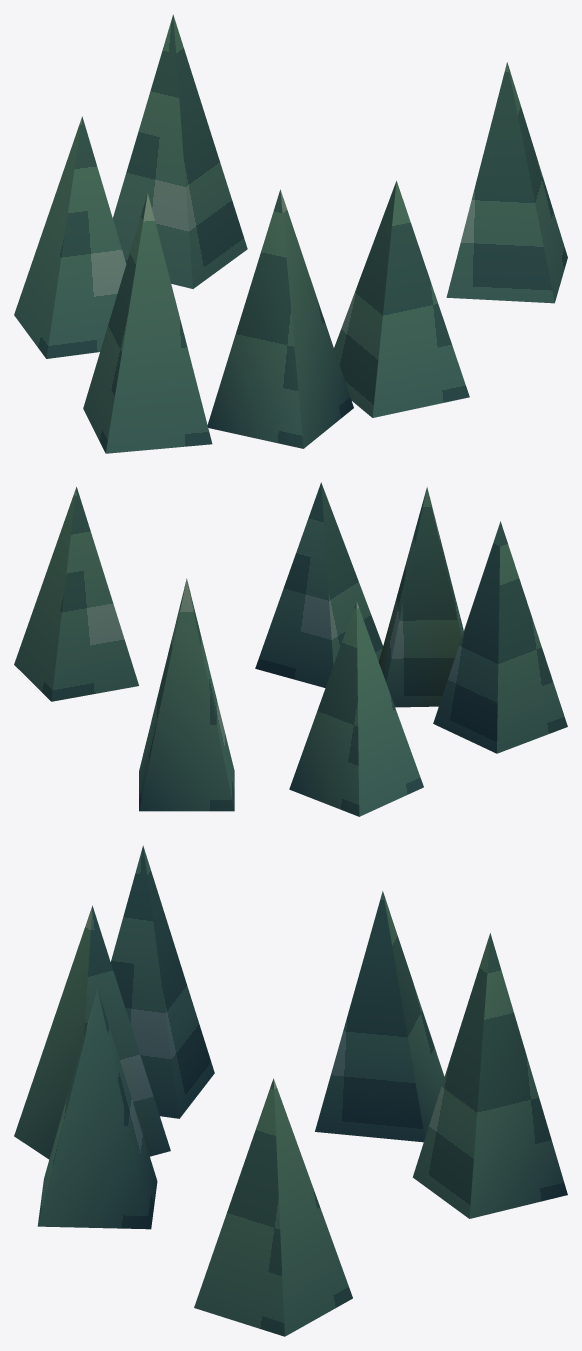
Rendered from mnat.flowers__tufts.glb.
3 renders of one model, top to bottom at view 1: azimuth 30°, elevation 25°; view 2: azimuth 150°, elevation 25°; view 3: azimuth 270°, elevation 25°, orthographic. The views are drawn at different scales.
Parts seen in each view (by area): view 1: kit_plants; view 2: kit_plants; view 3: kit_plants.
Boxes of the visible parts, box(x1,y1,x2,y2) form: kit_plants: box(14, 14, 567, 453); kit_plants: box(14, 482, 567, 816); kit_plants: box(14, 845, 567, 1336).
Size of the model in its own units: 1.31 by 0.5569 by 1.1.
1 material, 1 textured.
